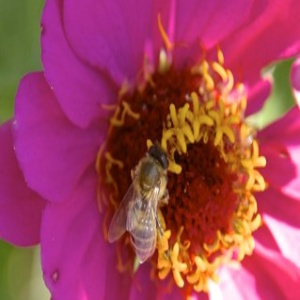bee: (108, 144, 171, 269)
